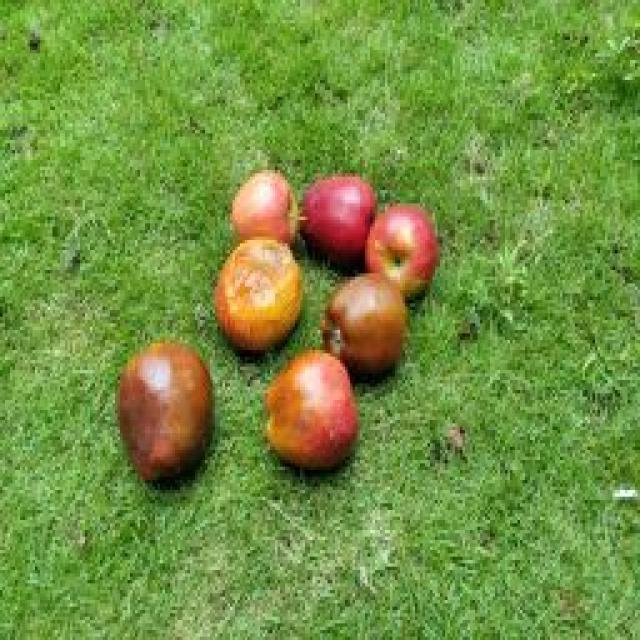Organik: (110, 344, 219, 494), (253, 345, 359, 482), (202, 222, 300, 358), (321, 262, 414, 398), (366, 183, 439, 300), (300, 173, 378, 275), (225, 160, 305, 254)
